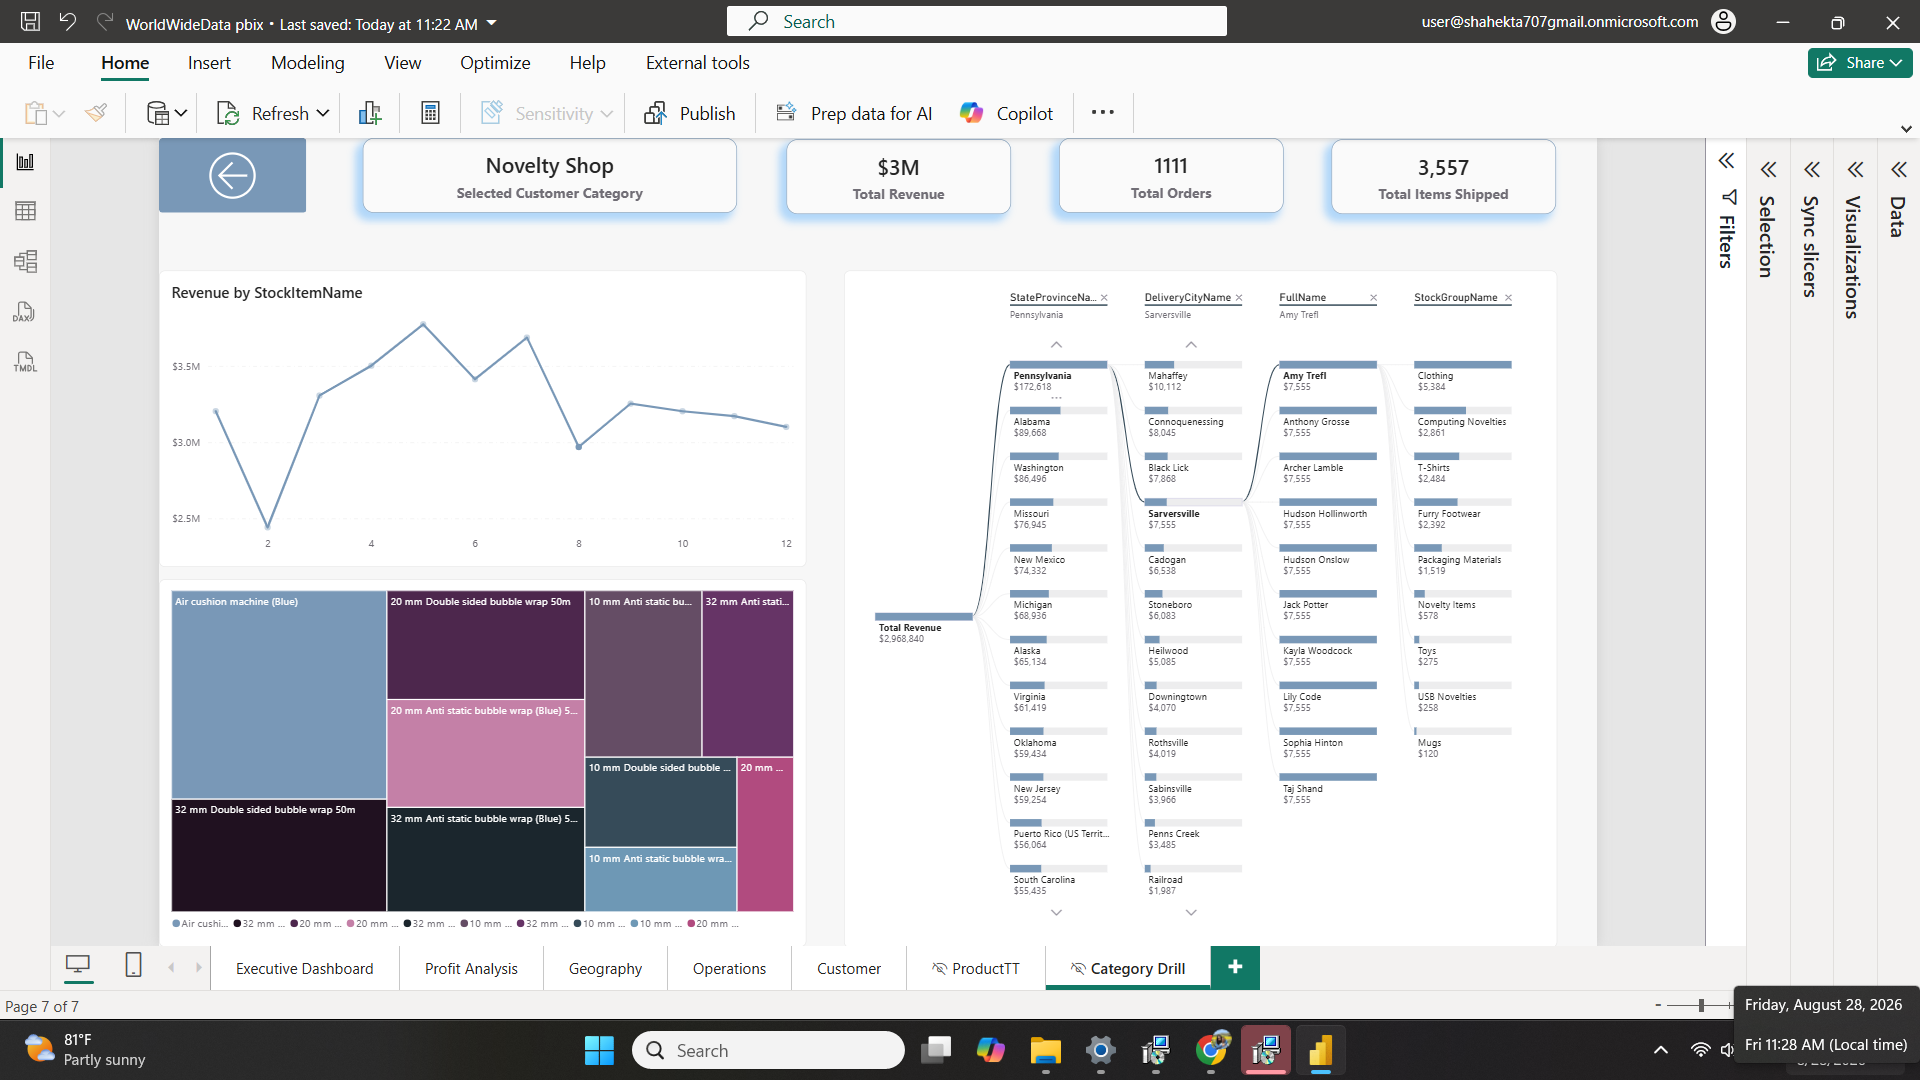

Layout of this report page (visuals, bound fields, positions):
{"tool":"powerbi","page":{"name":"Category Drill","canvas":[1920,1080],"ordinal":6},"visuals":[{"type":"actionButton","title":"Back","box":[0,0,196.9,100],"z":0},{"type":"card","title":"Top Product by Profit","fields":{"Values":["_Measures.Total Revenue"]},"box":[837.4,1.4,300,100],"z":1000},{"type":"card","title":"Top Product by Profit","fields":{"Values":["_Measures.Total Orders"]},"box":[1202.1,0.7,300,100],"z":2000},{"type":"card","title":"Top Product by Profit","fields":{"Values":["_Measures.Total Items Shipped"]},"box":[1566.8,2.2,300,100],"z":3000},{"type":"lineChart","title":"Revenue by StockItemName","fields":{"Category":["Dim_Date.Month"],"Y":["_Measures.Total Revenue"]},"box":[0,176.2,865,396.3],"z":4000},{"type":"treemap","fields":{"Group":["Dim_Product.StockItemName"],"Values":["_Measures.Total Revenue"]},"box":[0,590,865,491.2],"z":5000},{"type":"decompositionTreeVisual","fields":{"Analyze":["_Measures.Total Revenue"],"ExplainBy":["Dim_ Customers.StateProvinceName","Dim_ Customers.DeliveryCityName","Dim_Employee.FullName","Dim_ProductGroups.StockGroupName"]},"box":[915.7,176.2,953.1,905],"z":6000},{"type":"card","title":"Top Product by Profit","fields":{"Values":["_Measures.Selected Stock Item"]},"box":[272.7,0,500,100],"z":7000}]}

Visuals, with their boxes on the page's 1920x1080 design canvas (x1, y1, x2, y2). These are canvas units, not pixel positions in the 1920x1080 screenshot, which may show the page scaled, cropped or inside an application window:
"Back" actionButton: [x1=0, y1=0, x2=197, y2=100]
"Top Product by Profit" card: [x1=837, y1=1, x2=1137, y2=101]
"Top Product by Profit" card: [x1=1202, y1=1, x2=1502, y2=101]
"Top Product by Profit" card: [x1=1567, y1=2, x2=1867, y2=102]
"Revenue by StockItemName" lineChart: [x1=0, y1=176, x2=865, y2=572]
treemap - Dim_Product.StockItemName x _Measures.Total Revenue: [x1=0, y1=590, x2=865, y2=1081]
decompositionTreeVisual - _Measures.Total Revenue x Dim_ Customers.StateProvinceName: [x1=916, y1=176, x2=1869, y2=1081]
"Top Product by Profit" card: [x1=273, y1=0, x2=773, y2=100]
